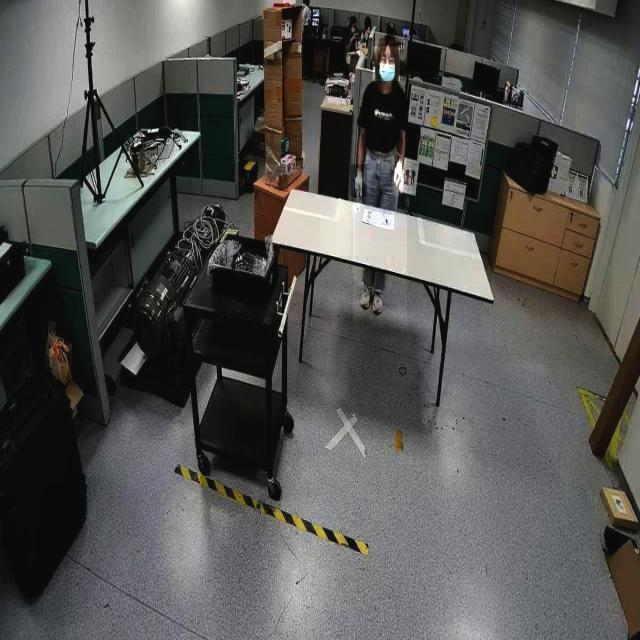face_mask: (372, 46, 400, 82)
hand_glove: (392, 157, 412, 195), (350, 165, 367, 198)
head_nohelmet: (377, 33, 400, 48), (350, 14, 358, 22)
person: (353, 41, 407, 330)
shoes: (369, 283, 386, 320), (357, 280, 375, 314)
